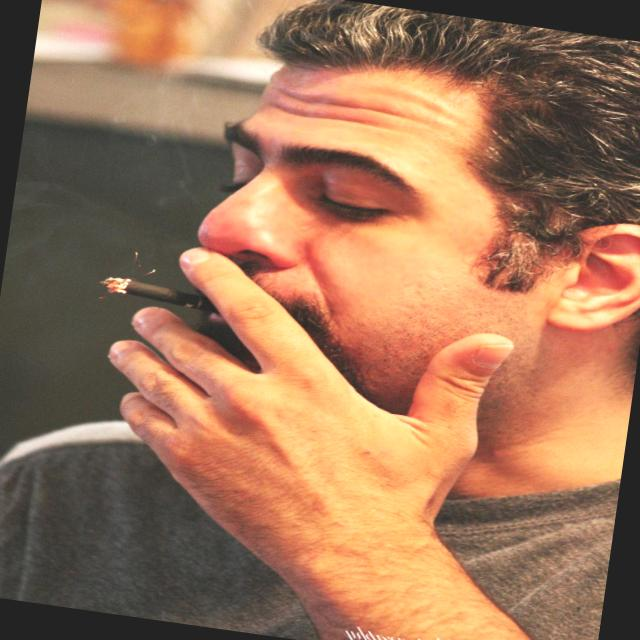smoke: (51, 246, 256, 356)
